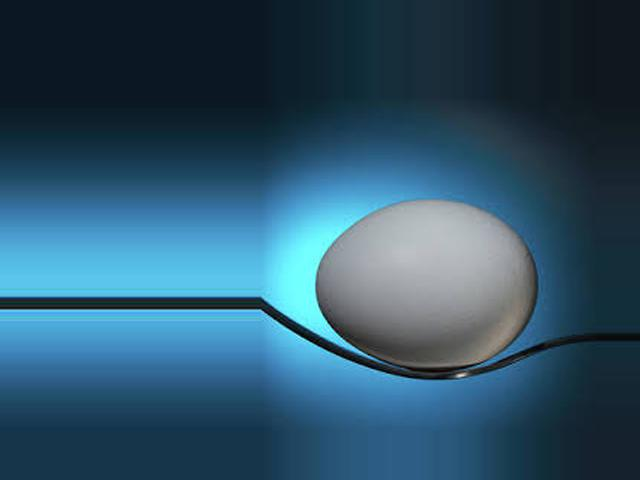egg: (315, 201, 537, 369)
